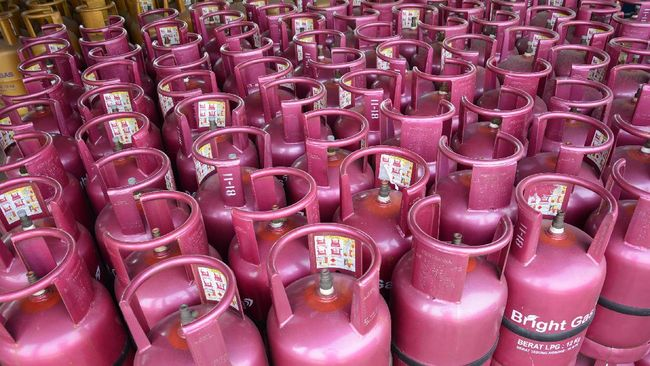bright_gas: (499, 174, 617, 366), (395, 194, 515, 366), (267, 224, 391, 366), (2, 231, 125, 366), (119, 255, 267, 366), (577, 164, 650, 360), (226, 171, 334, 294), (334, 146, 430, 278), (436, 126, 525, 252), (1, 176, 101, 279), (193, 126, 288, 234), (526, 112, 614, 228), (105, 190, 212, 285), (290, 108, 376, 211), (3, 130, 84, 227), (378, 95, 454, 190), (93, 150, 177, 226), (542, 75, 614, 160), (77, 113, 160, 184), (5, 57, 81, 129), (3, 99, 79, 170), (259, 79, 329, 156), (459, 85, 533, 156), (485, 51, 552, 124), (340, 69, 406, 143), (295, 29, 367, 96), (231, 56, 299, 122), (217, 3, 293, 61), (412, 56, 480, 117), (146, 9, 220, 62), (614, 87, 650, 189), (76, 11, 143, 65), (550, 43, 606, 107), (157, 69, 225, 118), (376, 40, 434, 97), (80, 86, 154, 116), (608, 32, 650, 84), (80, 59, 146, 92)
